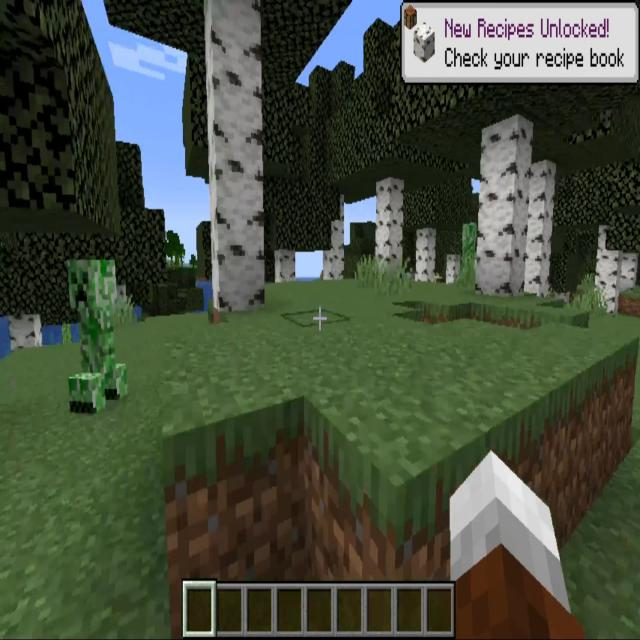Creeper: (64, 252, 125, 413), (460, 218, 479, 289)
